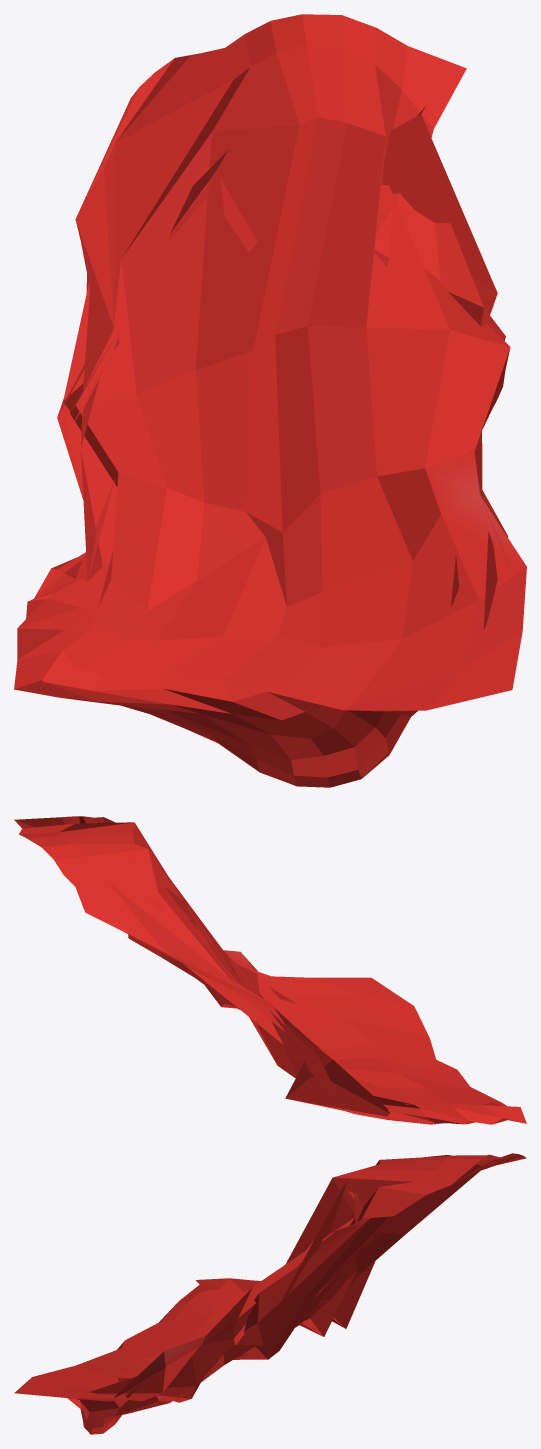
Rendered from Petal1_3.glb.
3 renders of one model, top to bottom at view 1: azimuth 30°, elevation 25°; view 2: azimuth 150°, elevation 25°; view 3: azimuth 270°, elevation 25°, orthographic. The views are drawn at different scales.
Parts seen in each view (by area): view 1: Cube.009; view 2: Cube.009; view 3: Cube.009.
Boxes of the visible parts, <box> form: Cube.009: <box>14,14,526,787</box>; Cube.009: <box>14,816,526,1124</box>; Cube.009: <box>14,1153,526,1434</box>.
Bounding box in the file's own units: 25.8 × 21.64 × 28.17.
